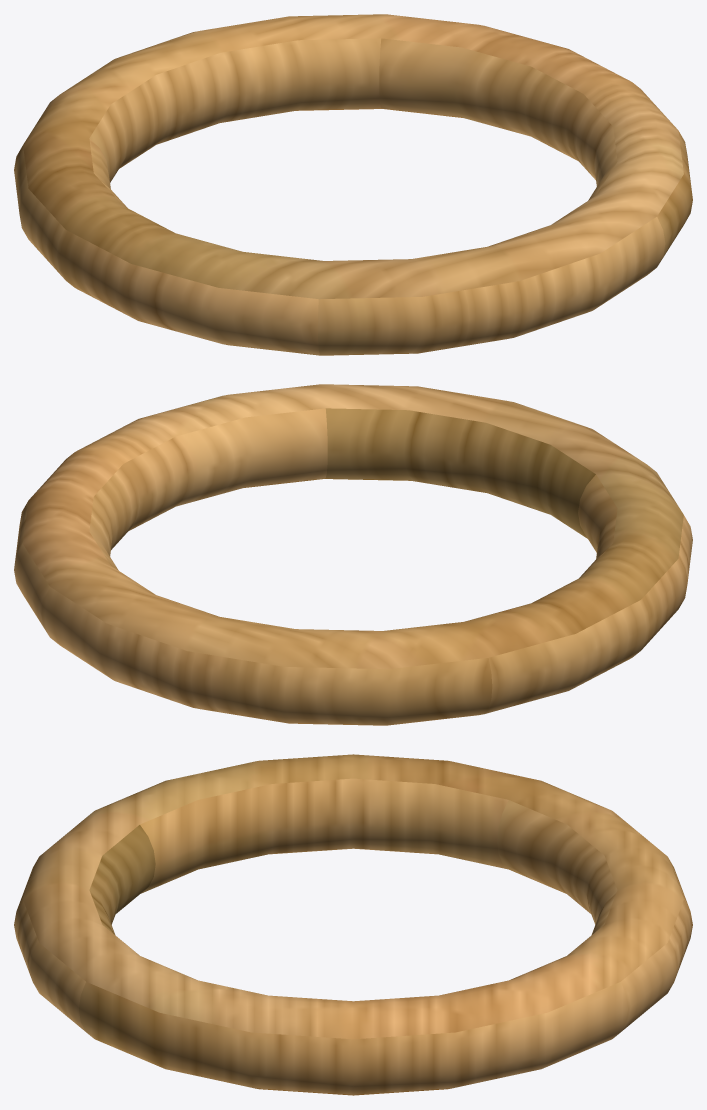
Rendered from tauraswood.obj.
The picture shows the model from 3 angles, top to bottom: view 1: azimuth 30°, elevation 25°; view 2: azimuth 150°, elevation 25°; view 3: azimuth 270°, elevation 25°; orthographic projection.
Visible parts, largest first — view 1: pTorus1; view 2: pTorus1; view 3: pTorus1.
Part boxes in pixels (x1,y1,x2,y2): pTorus1: (14, 14, 692, 355); pTorus1: (14, 384, 692, 725); pTorus1: (14, 754, 692, 1095).
Size of the model in its own units: 8.58 by 1.2 by 8.58.
1 material, 1 textured.
